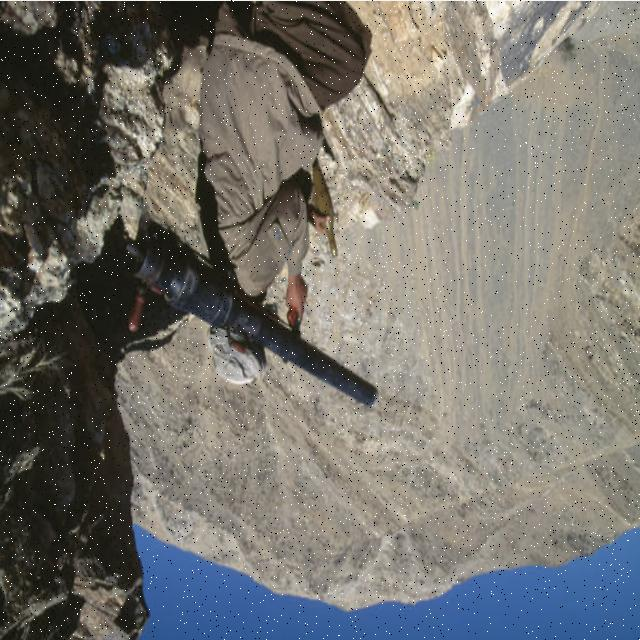bazooka: (125, 224, 383, 411)
